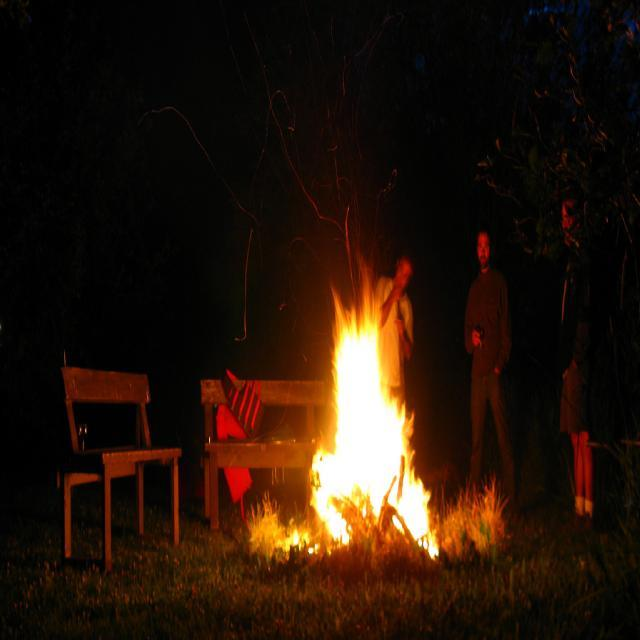Fire: (334, 323, 398, 492), (407, 472, 427, 542), (317, 459, 333, 518)
